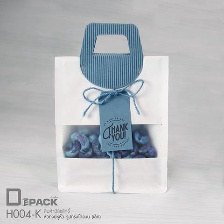snack: (42, 16, 177, 199)
